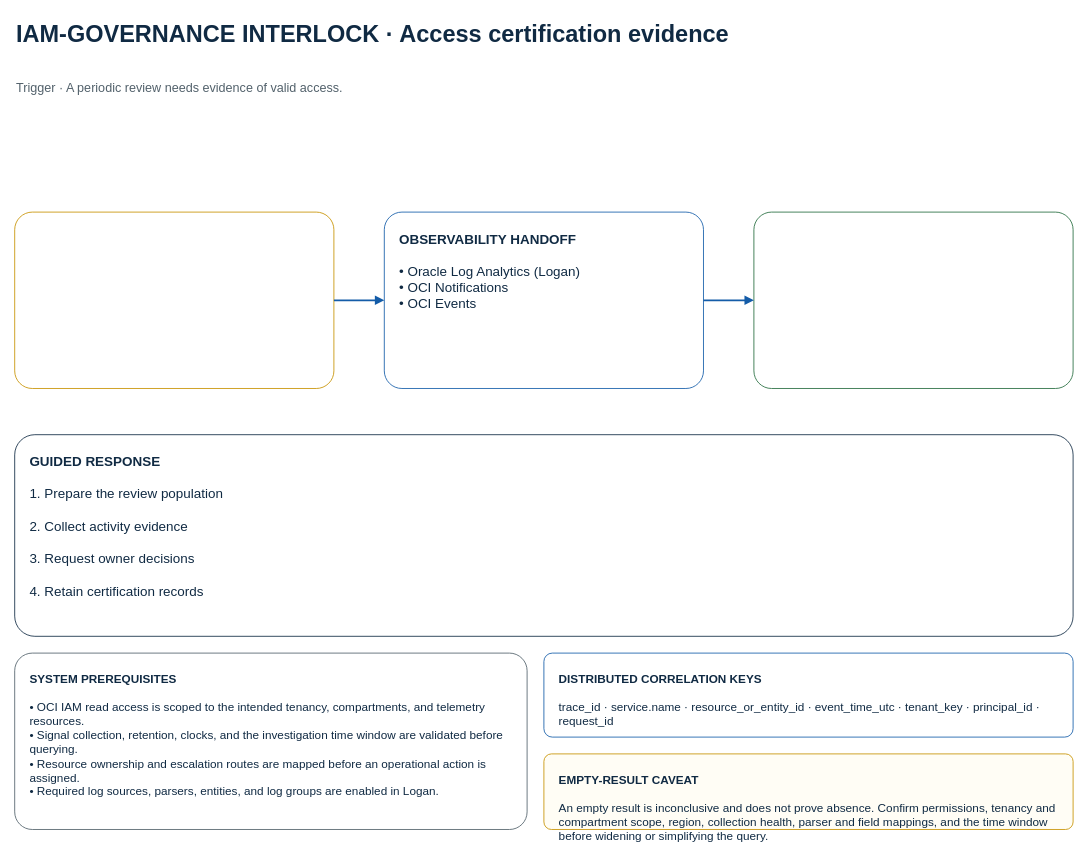
Image size: 1088x858. Some labels were removed from this diagram. The centre of each missing label's shape, as x and y in pixels:
"OPERATIONAL OUTCOME • Produce a reviewable access decision trail." belongs at (x=913, y=299).
"SOURCE EVIDENCE • IAM assignments • Audit activity • Owner attestations" belongs at (x=174, y=299).
